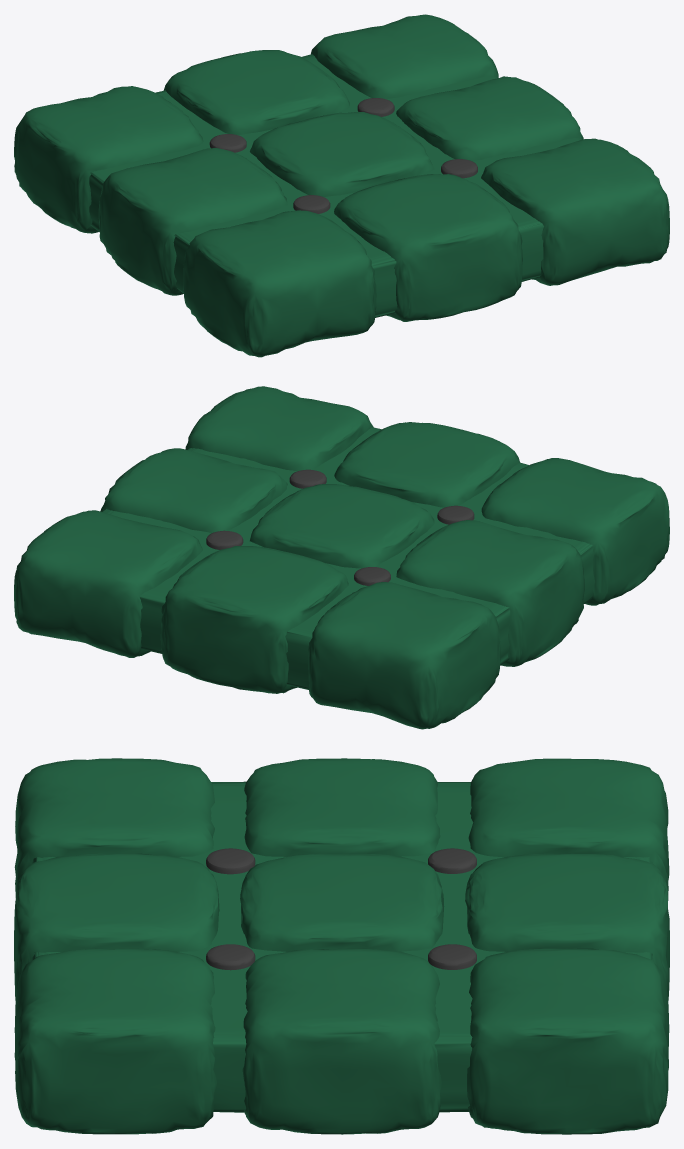
File: kissen.glb
3 renders of one model, top to bottom at view 1: azimuth 30°, elevation 25°; view 2: azimuth 150°, elevation 25°; view 3: azimuth 270°, elevation 25°, orthographic. The views are drawn at different scales.
Parts seen in each view (by area): view 1: Cylinder; view 2: Cylinder; view 3: Cylinder.
Part boxes in pixels (x1,y1,x2,y2): Cylinder: [14, 14, 669, 357]; Cylinder: [14, 386, 669, 729]; Cylinder: [14, 758, 669, 1134].
Bounding box in the file's own units: 6.42 × 1.2 × 6.42.
